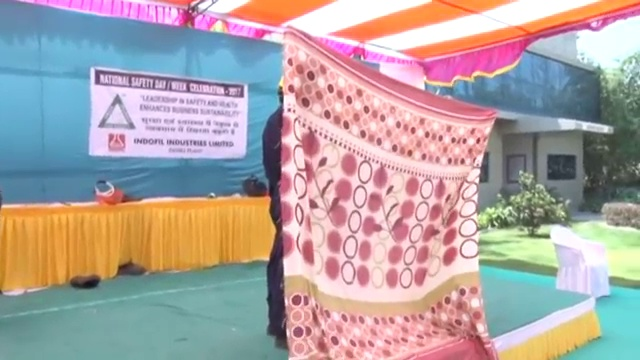person: (259, 76, 294, 350)
